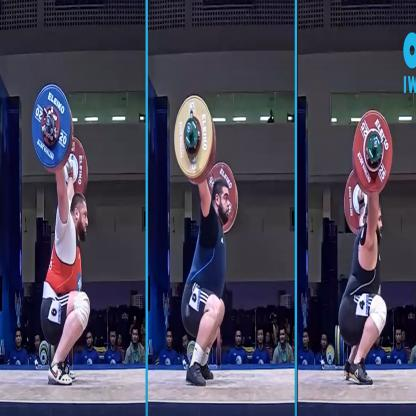Barbell: (172, 89, 219, 187), (28, 79, 75, 175), (349, 103, 396, 197)
